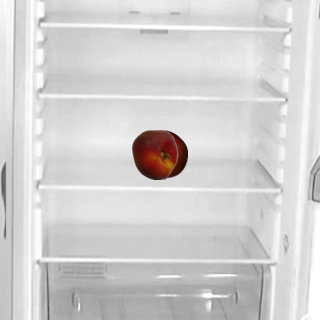Apple Braeburn: (137, 129, 187, 179)
Nectarine Flat: (129, 129, 179, 179)
